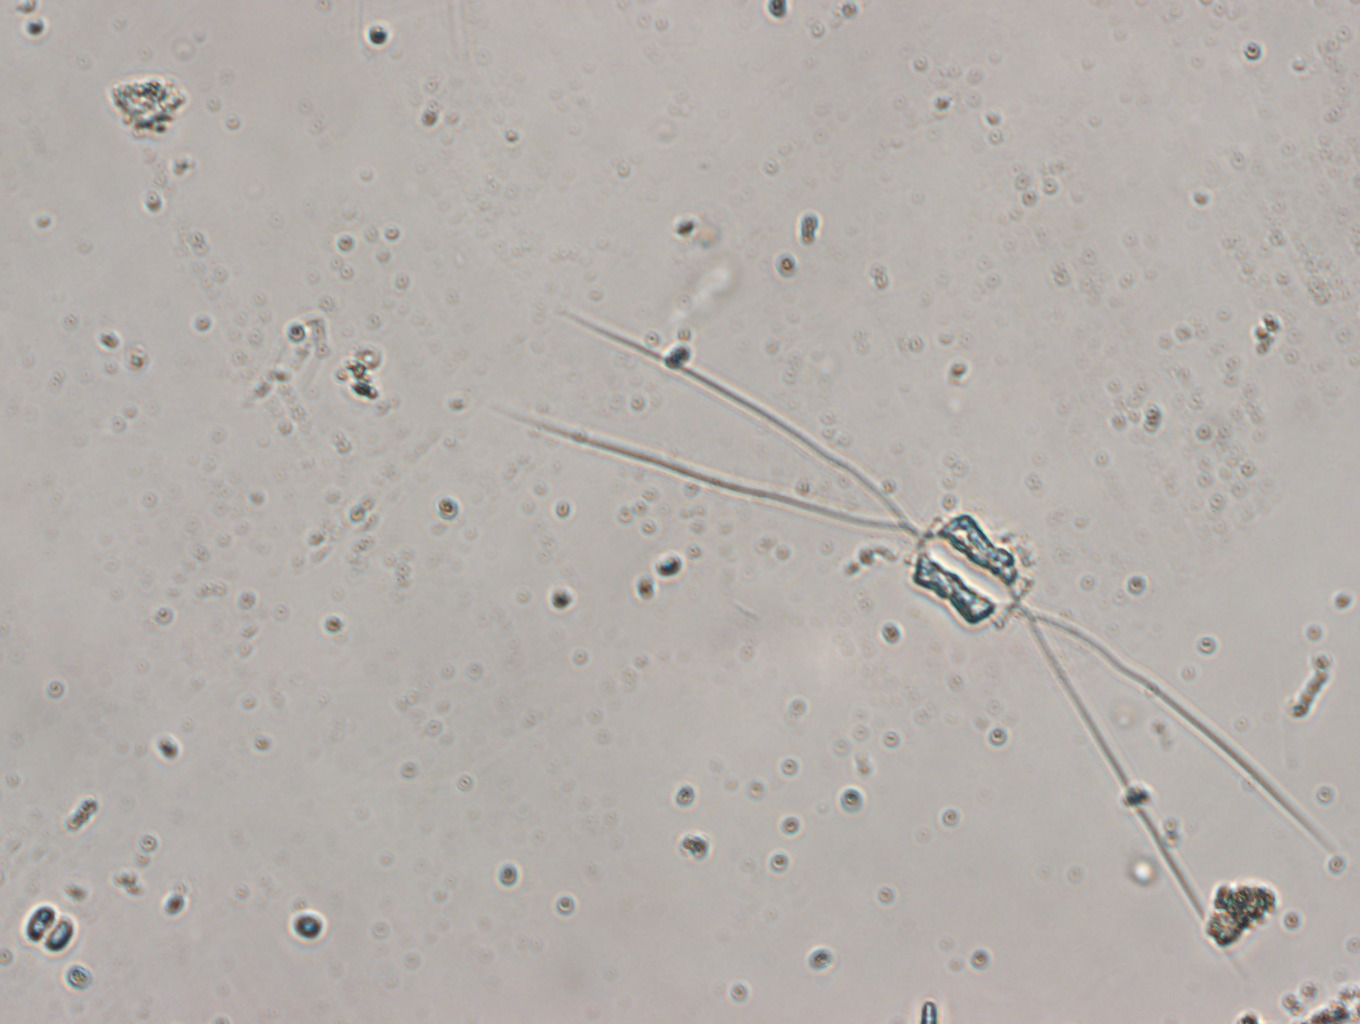chaetoceros: (495, 301, 1333, 968)
